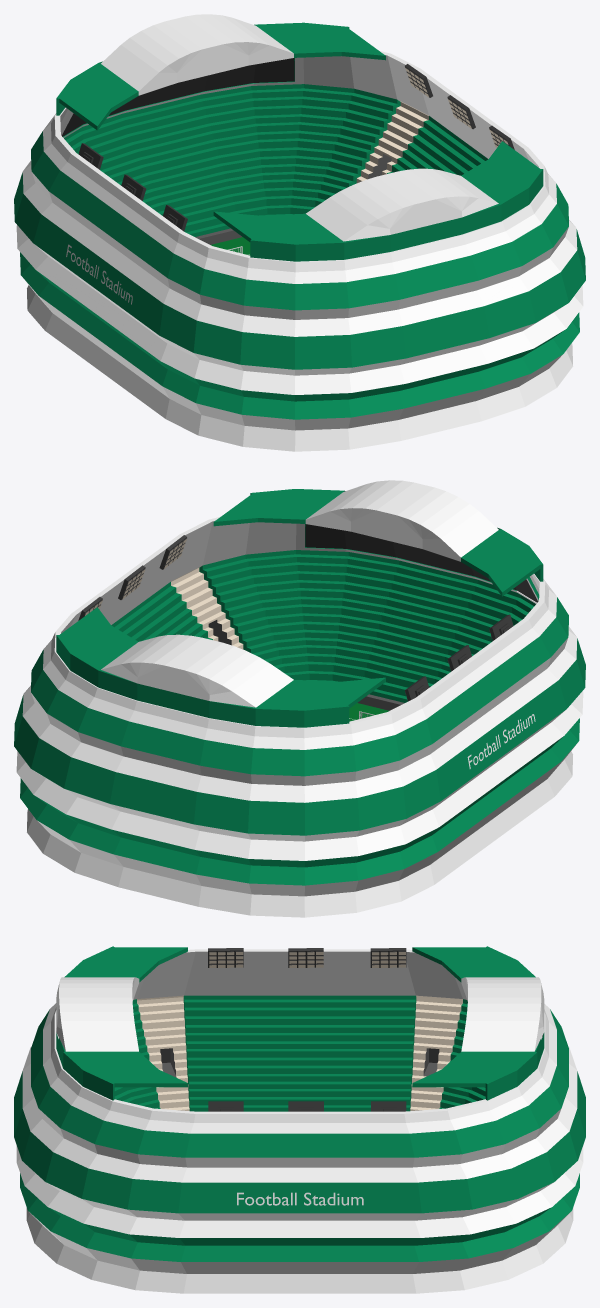
The model's file is stadium.glb.
The picture shows the model from 3 angles, top to bottom: view 1: azimuth 30°, elevation 25°; view 2: azimuth 150°, elevation 25°; view 3: azimuth 270°, elevation 25°; orthographic projection. The views are drawn at different scales.
Visible parts, largest first — view 1: Football Stadium; view 2: Football Stadium; view 3: Football Stadium, Object.004_Color_0, Object.005_Color_0, Object.006_Color_0.
Part boxes in pixels (box(x1,y1,x2,y2)): Football Stadium: box(14, 14, 585, 451); Football Stadium: box(14, 480, 585, 917); Football Stadium: box(14, 946, 585, 1293); Object.004_Color_0: box(370, 948, 406, 967); Object.005_Color_0: box(288, 948, 323, 967); Object.006_Color_0: box(208, 948, 243, 967).
Size of the model in its own units: 203 by 103 by 256.
1 material, 1 textured.
